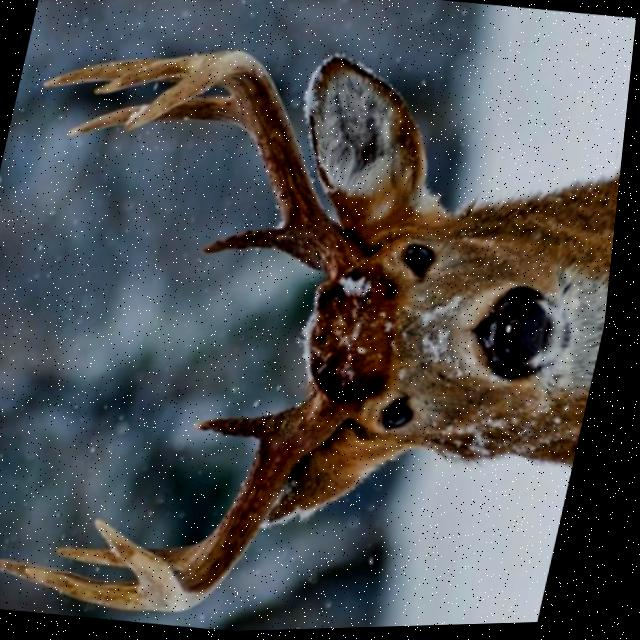L-F: (104, 394, 351, 613)
L-G1: (202, 414, 287, 444)
R-F: (123, 49, 370, 279)
R-G1: (205, 224, 292, 256)
